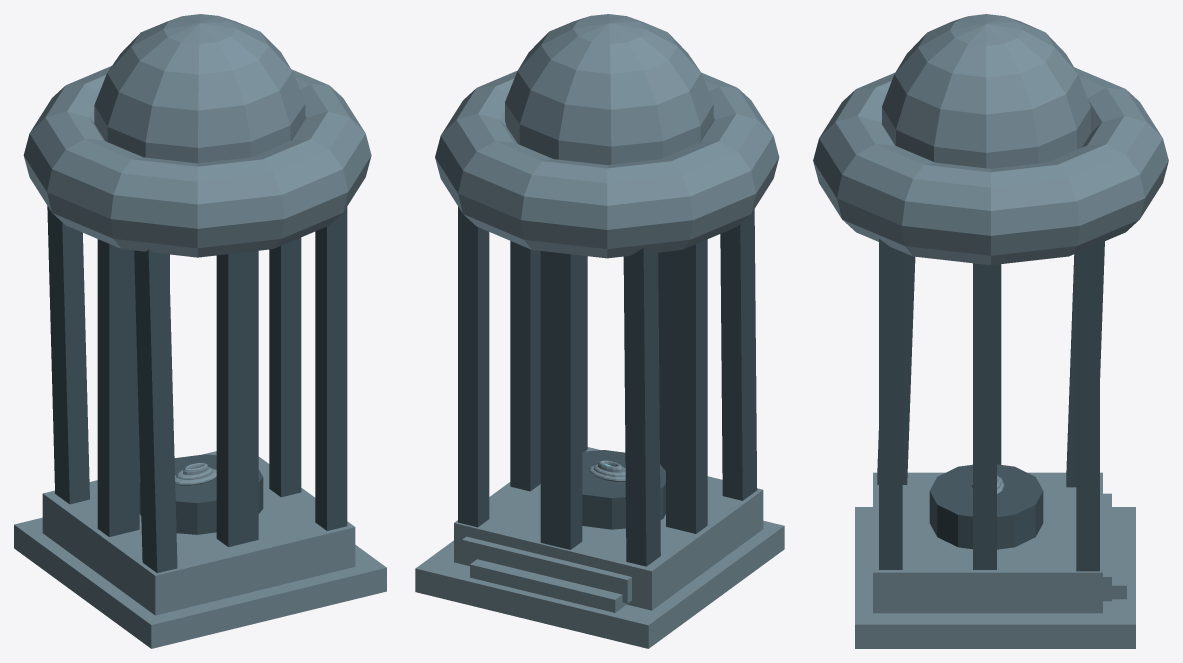
The picture shows the model from 3 angles, left to right: view 1: azimuth 30°, elevation 25°; view 2: azimuth 150°, elevation 25°; view 3: azimuth 270°, elevation 25°; orthographic projection. The views are drawn at different scales.
Visible parts, largest first — view 1: mesh_46550973, mesh_701347685, mesh_1532565464, mesh_49052475, mesh_384652724, mesh_481688711, mesh_817027666, mesh_853742150, mesh_1007167029, mesh_1553211090, mesh_570674483, mesh_2101561520 (+2 smaller); view 2: mesh_46550973, mesh_701347685, mesh_1532565464, mesh_662839887, mesh_384652724, mesh_853742150, mesh_559278569, mesh_481688711, mesh_277181209, mesh_1007167029, mesh_570674483, mesh_1082779341 (+5 smaller); view 3: mesh_46550973, mesh_701347685, mesh_1532565464, mesh_2081533324, mesh_559278569, mesh_817027666, mesh_1007167029, mesh_2101561520, mesh_277181209, mesh_481688711, mesh_853742150, mesh_1553211090 (+3 smaller).
Part boxes in pixels (x1,y1,x2,y2): mesh_46550973: (23, 66, 371, 257); mesh_701347685: (94, 14, 305, 163); mesh_1532565464: (42, 451, 355, 615); mesh_49052475: (216, 250, 258, 546); mesh_384652724: (97, 239, 139, 536); mesh_481688711: (134, 249, 177, 573); mesh_817027666: (315, 207, 347, 530); mesh_853742150: (47, 206, 89, 504); mesh_1007167029: (269, 237, 301, 497); mesh_1553211090: (138, 564, 366, 648); mesh_570674483: (30, 533, 150, 638); mesh_2101561520: (139, 454, 263, 534); mesh_46550973: (435, 70, 779, 258); mesh_701347685: (505, 14, 713, 164); mesh_1532565464: (454, 447, 763, 610); mesh_662839887: (540, 251, 582, 549); mesh_384652724: (666, 239, 707, 533); mesh_853742150: (623, 248, 660, 566); mesh_559278569: (458, 206, 489, 527); mesh_481688711: (720, 209, 757, 500); mesh_277181209: (415, 560, 668, 648); mesh_1007167029: (510, 241, 540, 491); mesh_570674483: (656, 532, 771, 633); mesh_1082779341: (462, 536, 631, 603); mesh_46550973: (813, 67, 1168, 265); mesh_701347685: (882, 14, 1090, 168); mesh_1532565464: (873, 472, 1102, 613); mesh_2081533324: (855, 613, 1111, 648); mesh_559278569: (1076, 240, 1099, 571); mesh_817027666: (879, 239, 902, 569); mesh_1007167029: (973, 263, 996, 569); mesh_2101561520: (929, 464, 1043, 549); mesh_277181209: (1094, 507, 1135, 648); mesh_481688711: (877, 252, 915, 484); mesh_853742150: (1066, 241, 1104, 487); mesh_1553211090: (855, 507, 872, 613).
Bounding box in the file's own units: 119 × 208 × 119.
